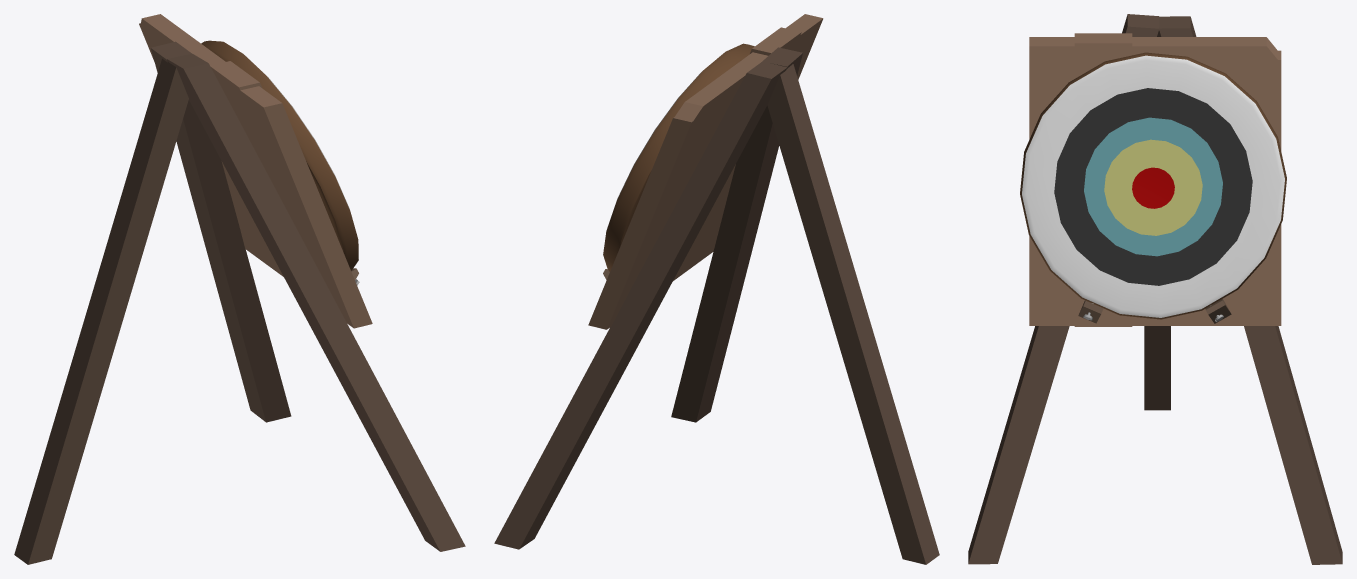
File: target.fbx
The picture shows the model from 3 angles, left to right: view 1: azimuth 30°, elevation 25°; view 2: azimuth 150°, elevation 25°; view 3: azimuth 270°, elevation 25°; orthographic projection. The views are drawn at different scales.
Parts seen in each view (by area): view 1: Cible:pCube9; view 2: Cible:pCube9; view 3: Cible:pCube9.
Boxes of the visible parts, x1,y1,x2,y2 form: Cible:pCube9: [14, 14, 465, 564]; Cible:pCube9: [494, 14, 939, 564]; Cible:pCube9: [968, 14, 1342, 564].
Size of the model in its own units: 154 by 197 by 147.
